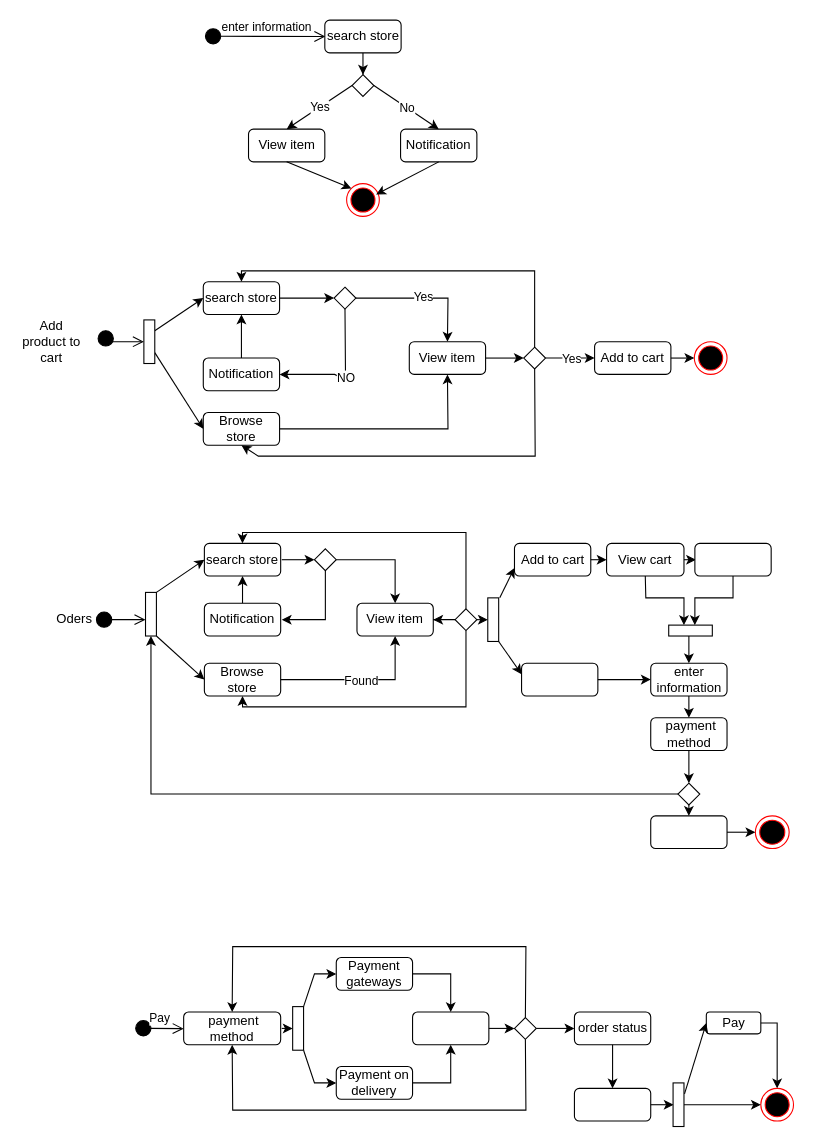
This 813x1146 diagram has some shape labels left out. The shapes that lost their labels are listed below. From the top down, each one's centre as x and y in pixels, then its label:
the point at 732,559: update
the point at 559,679: Buy product
the point at 688,832: Check out
the point at 450,1028: call center staff
the point at 612,1104: delivery
